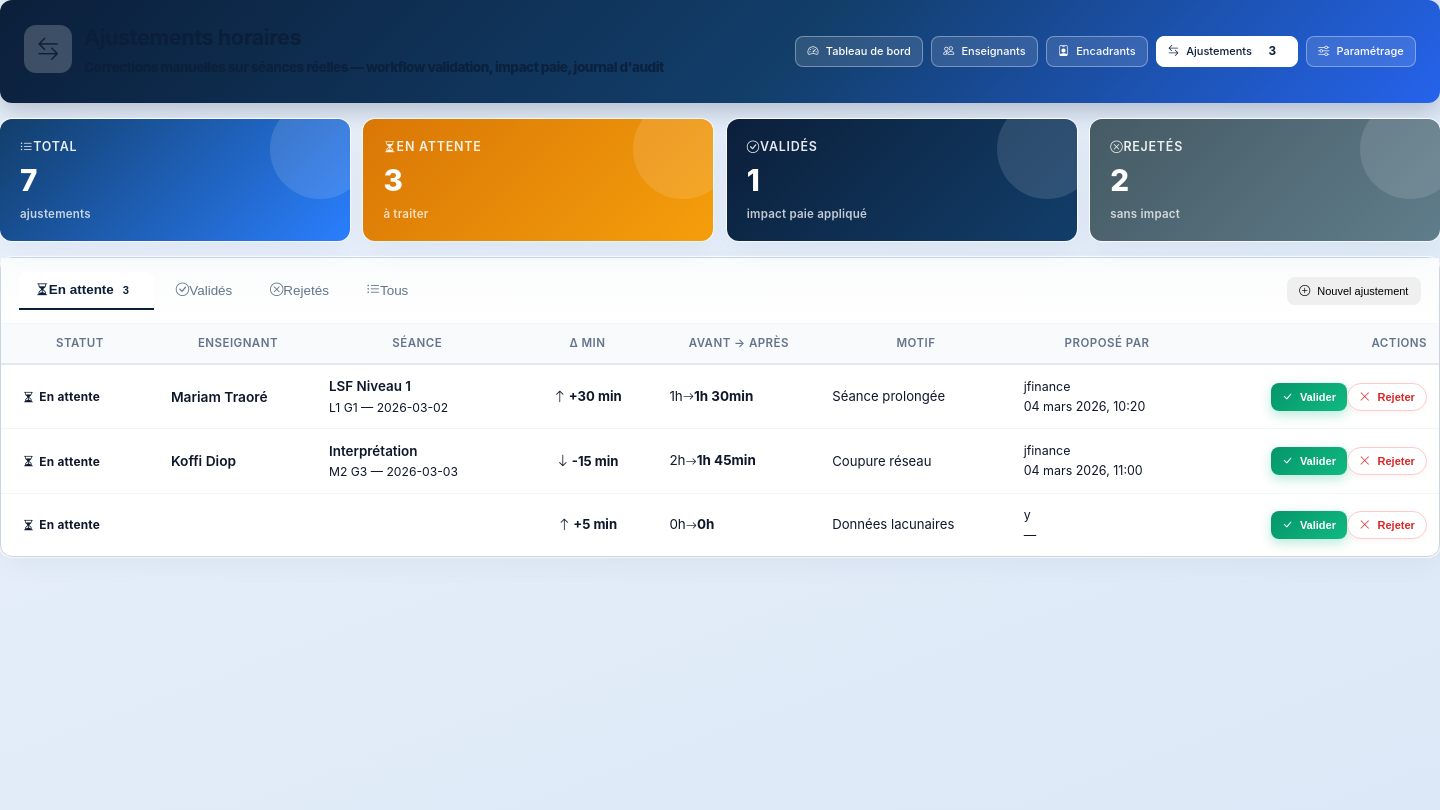
Test: pages/FinanceAjustements.jsx — workflow de validation (LOT 29) › notifie le détail d'une erreur de validation puis le message générique
The image size is (1440, 810).
Click the button "Valider" in the row of "Mariam Traoré": (1309, 397) [1270,383,1347,411]
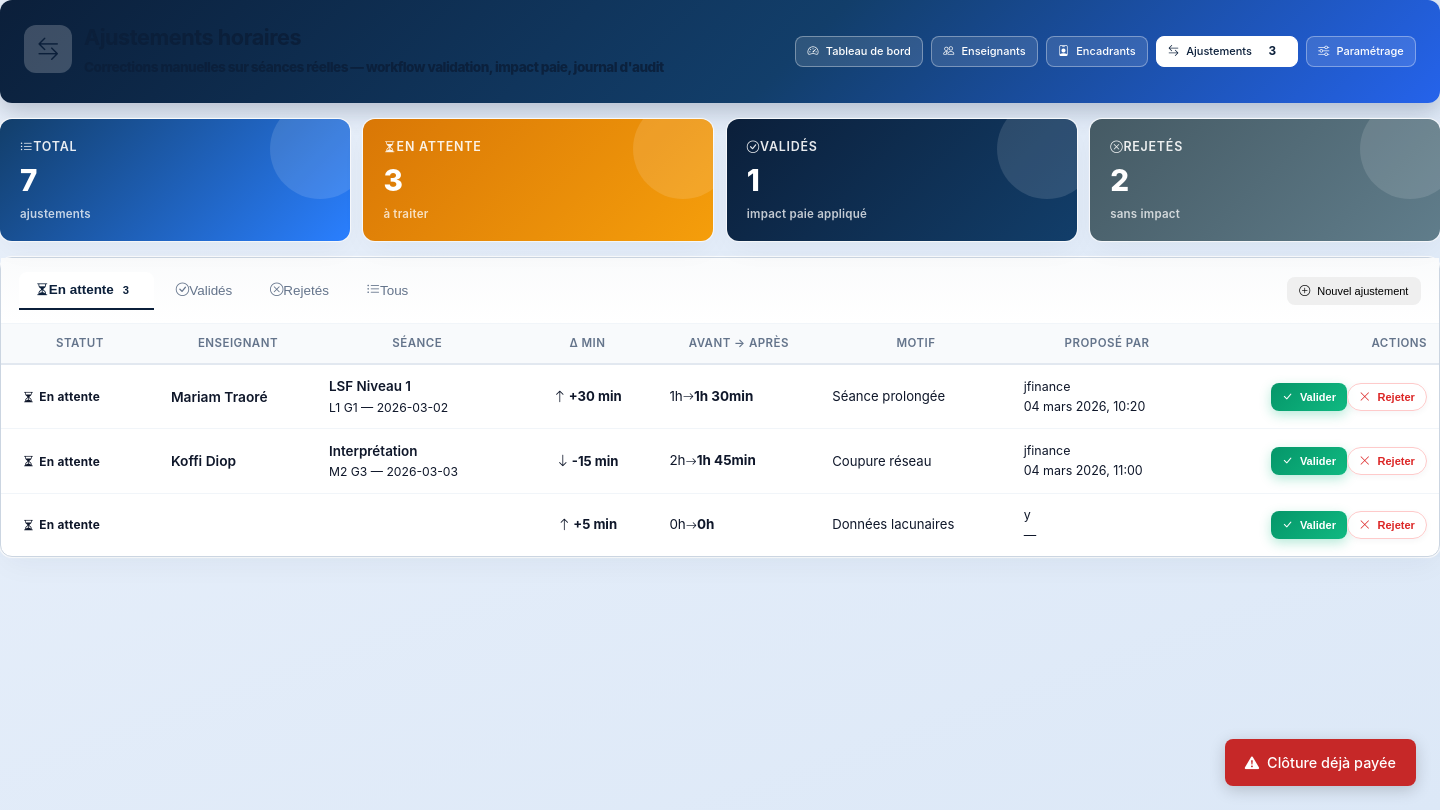
Expected: the text "Clôture déjà payée" is shown, [1225,739,1416,786]
Click the button "Valider" in the row of "Koffi Diop": (1309, 461) [1270,447,1347,475]
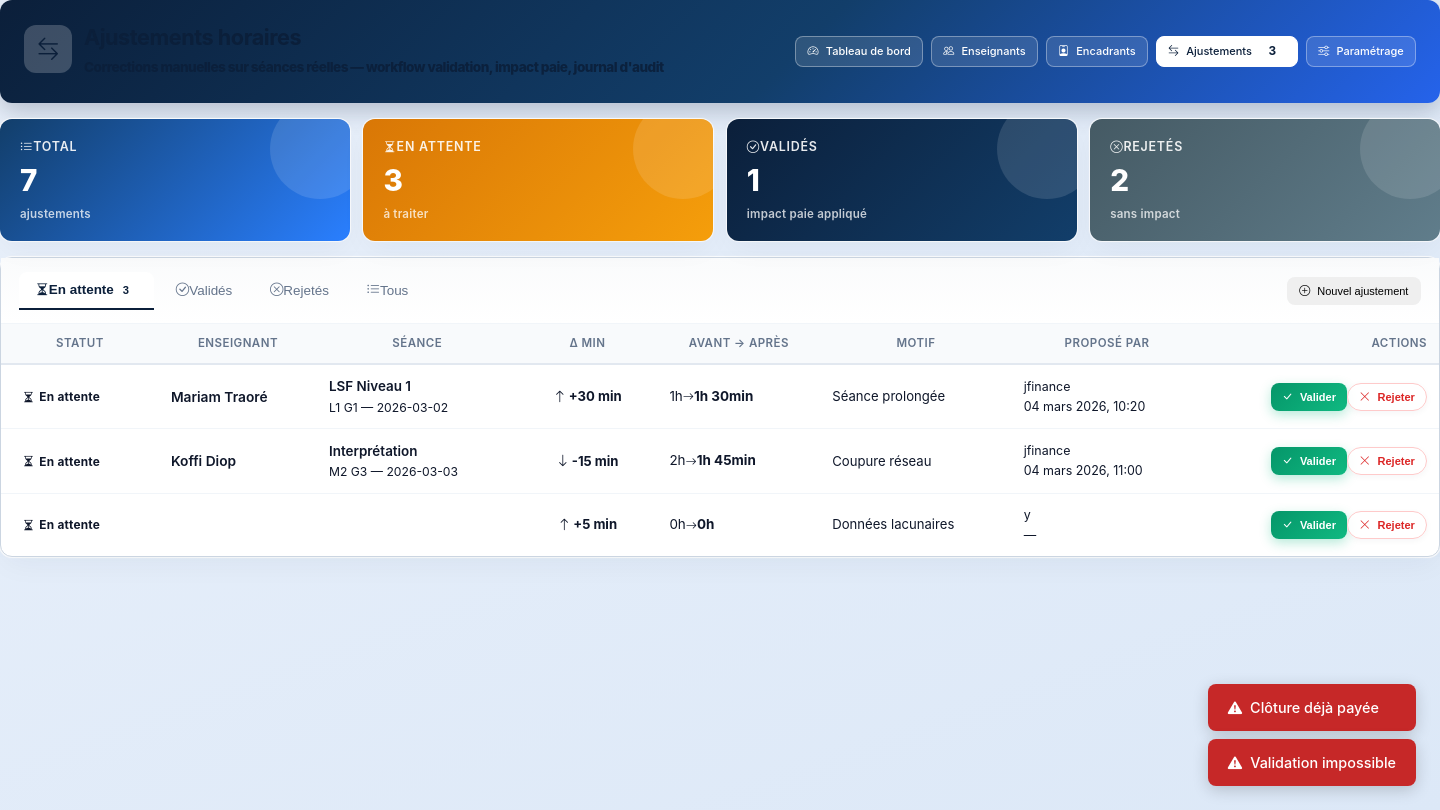
Expected: the text "Validation impossible" is shown, [1208,739,1416,786]
